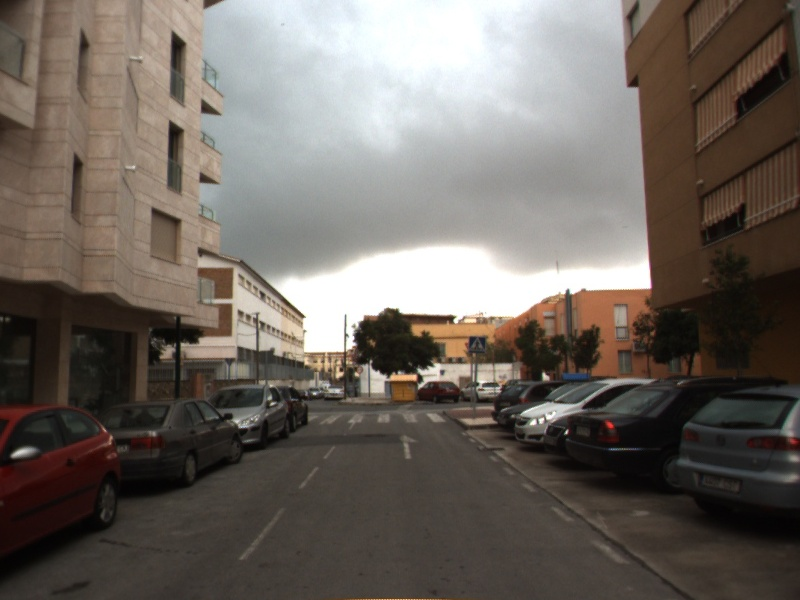STRAIGHT: (396, 432, 421, 461)
